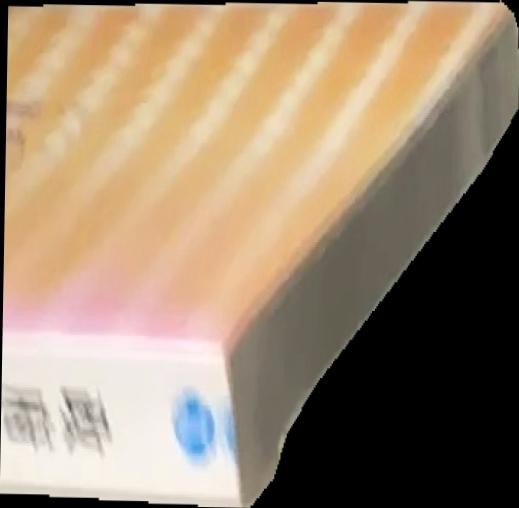flat: (1, 1, 519, 508)
